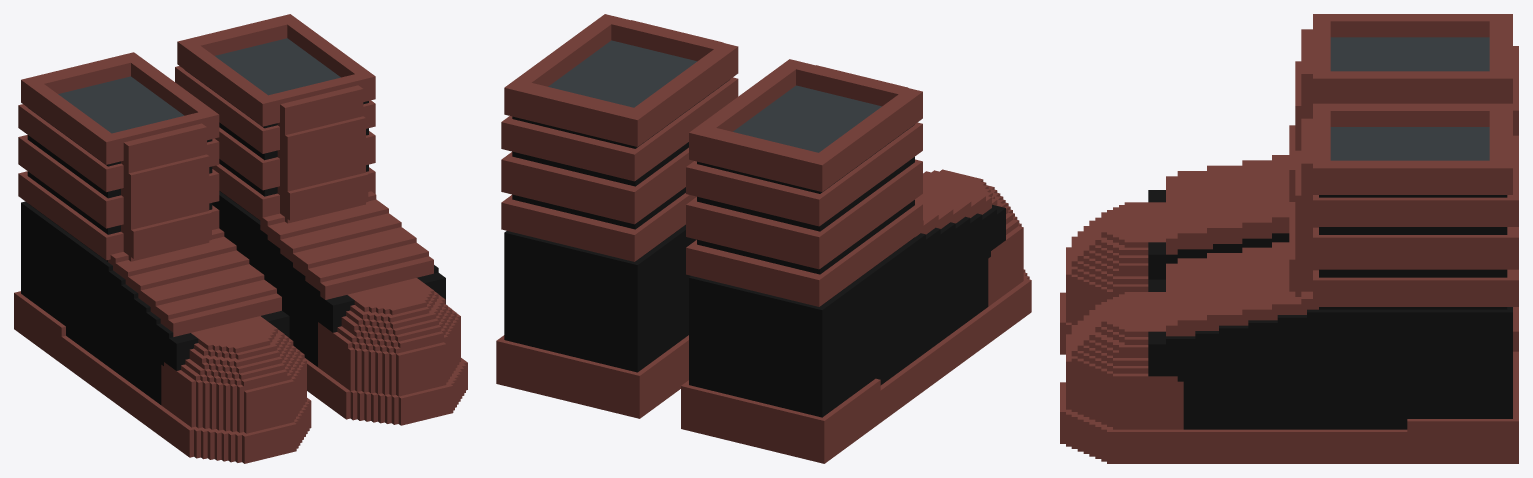
Rendered from boots_chitin.glb.
3 renders of one model, left to right at view 1: azimuth 30°, elevation 25°; view 2: azimuth 150°, elevation 25°; view 3: azimuth 270°, elevation 25°, orthographic. The views are drawn at different scales.
Visible parts, largest first — view 1: boots_chitin:compound; view 2: boots_chitin:compound; view 3: boots_chitin:compound.
Part boxes in pixels (x1=…): boots_chitin:compound: x1=14, y1=14, x2=467, y2=463; boots_chitin:compound: x1=496, y1=14, x2=1031, y2=463; boots_chitin:compound: x1=1060, y1=14, x2=1518, y2=463.
Bounding box in the file's own units: 0.256 × 0.22 × 0.312.
